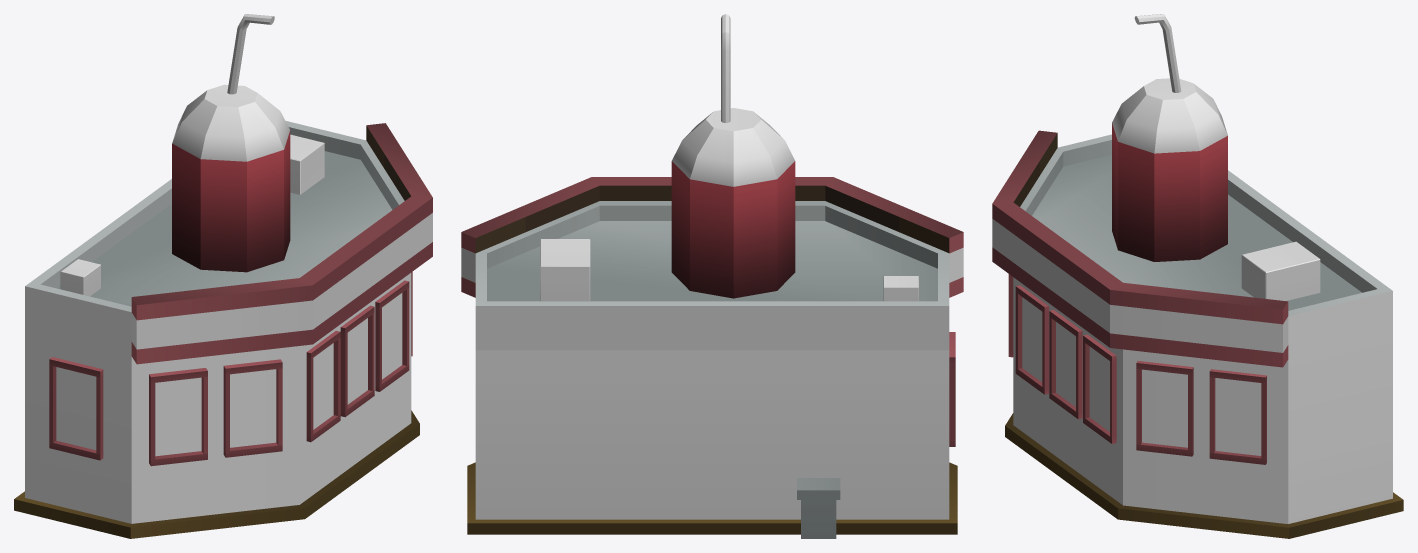
Rendered from Fortnite.fbx.
3 views of the same model, side by side, from view 1: azimuth 30°, elevation 25°; view 2: azimuth 150°, elevation 25°; view 3: azimuth 270°, elevation 25° (orthographic). The views are drawn at different scales.
Parts seen in each view (by area): view 1: polySurface48; view 2: polySurface48; view 3: polySurface48.
Part boxes in pixels (x1,y1,x2,y2): polySurface48: (14, 14, 432, 538); polySurface48: (461, 14, 963, 538); polySurface48: (992, 14, 1403, 538).
Size of the model in its own units: 12.43 by 12.26 by 10.45.
